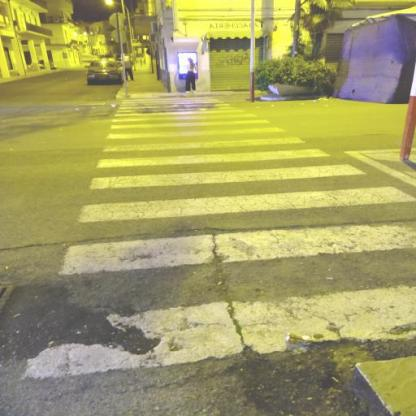crosswalk: (83, 147, 368, 196), (105, 116, 291, 140)
